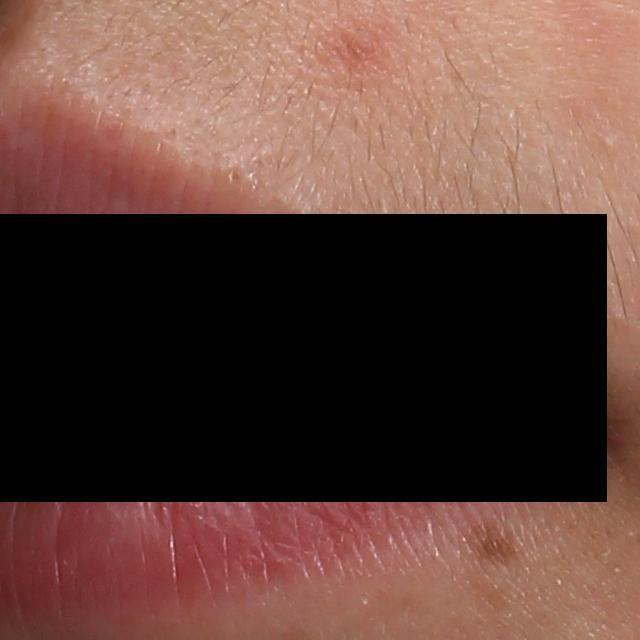comedo: (224, 166, 242, 188), (601, 135, 617, 152)
nevus: (468, 519, 510, 561)
